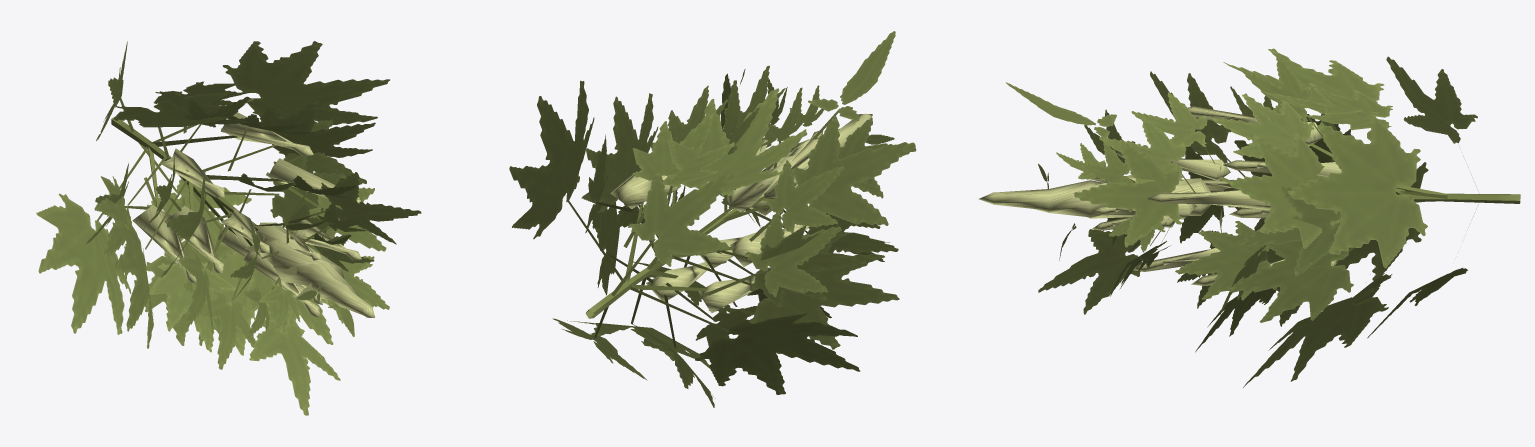
Rendered from p_frosty_tree_flowering_c1_cards.obj.
3 views of the same model, side by side, from view 1: azimuth 30°, elevation 25°; view 2: azimuth 150°, elevation 25°; view 3: azimuth 270°, elevation 25° (orthographic). The views are drawn at different scales.
Size of the model in its own units: 1.63 by 1.29 by 1.8.
Materials: 1 (1 with a texture image).
